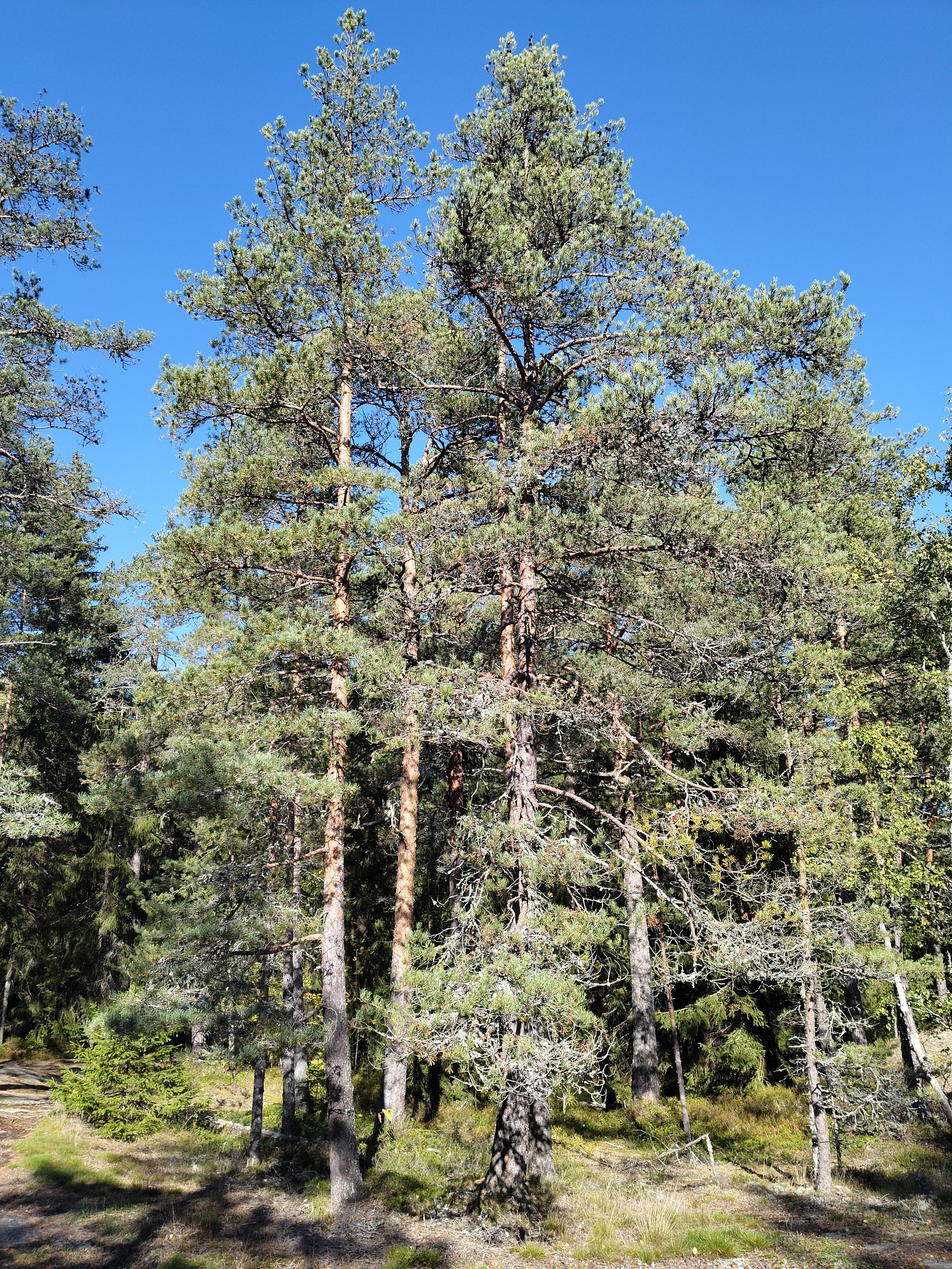Pine: (147, 0, 654, 1262), (130, 6, 449, 1214)
